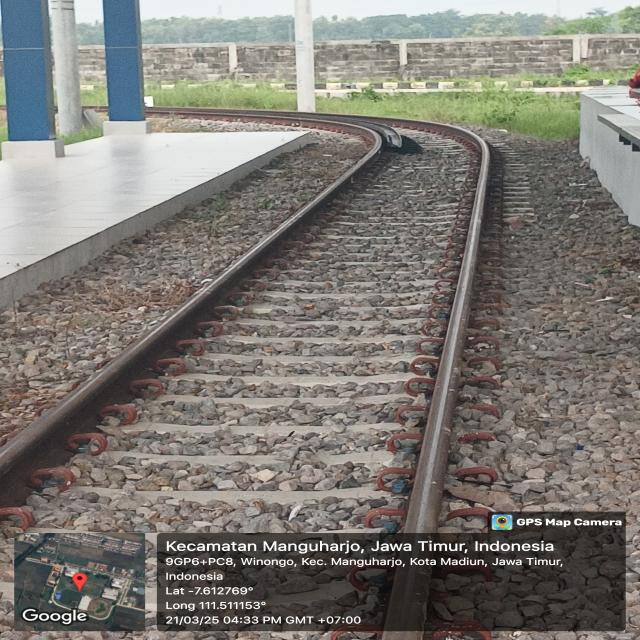rail-detection: (0, 108, 490, 534)
